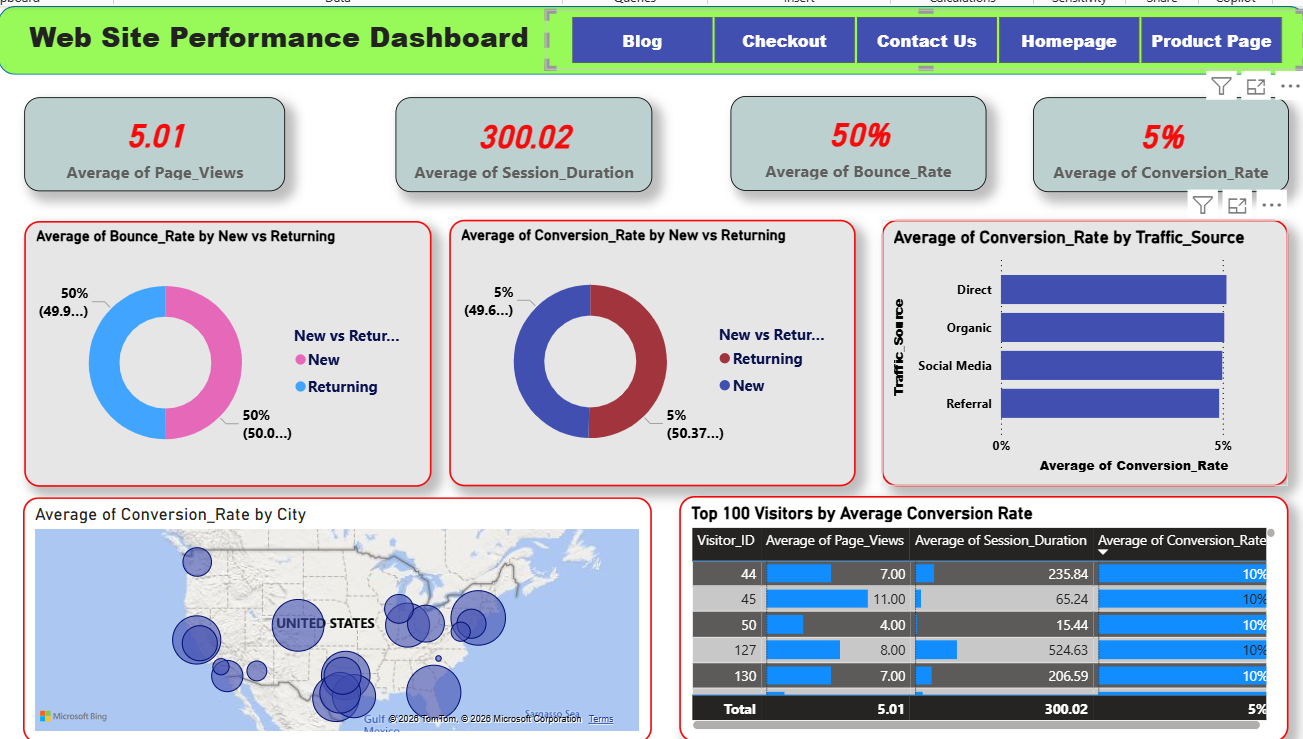

The page's visual inventory and layout, read from the dashboard file:
{"tool":"powerbi","page":{"name":"Page 1","canvas":[1280,720],"ordinal":0},"visuals":[{"type":"shape","box":[0,0,1280,67.2],"z":0},{"type":"textbox","box":[25.2,6.7,510.7,52.1],"z":1000},{"type":"card","fields":{"Values":["Avg(1 61 Assignment-website_performance_analytics.Page_Views)"]},"box":[25.2,89,255.3,92.4],"z":2000},{"type":"slicer","fields":{"Values":["1 61 Assignment-website_performance_analytics.Exit_Pages"]},"box":[535.9,3.4,744.1,58.8],"z":3000},{"type":"card","fields":{"Values":["Avg(1 61 Assignment-website_performance_analytics.Session_Duration)"]},"box":[388.8,89,251.3,92.9],"z":4000},{"type":"card","fields":{"Values":["Avg(1 61 Assignment-website_performance_analytics.Bounce_Rate)"]},"box":[716.1,87.7,250,92.9],"z":5000},{"type":"card","fields":{"Values":["Avg(1 61 Assignment-website_performance_analytics.Conversion_Rate)"]},"box":[1011.9,89,250,92.9],"z":6000},{"type":"donutChart","fields":{"Y":["Avg(1 61 Assignment-website_performance_analytics.Bounce_Rate)"],"Category":["1 61 Assignment-website_performance_analytics.Visitor_Type"]},"box":[25.2,210,398.1,260.4],"z":7000},{"type":"donutChart","fields":{"Y":["Avg(1 61 Assignment-website_performance_analytics.Conversion_Rate)"],"Category":["1 61 Assignment-website_performance_analytics.Visitor_Type"]},"box":[441.2,209.5,398,260.5],"z":8000},{"type":"clusteredBarChart","fields":{"Y":["Avg(1 61 Assignment-website_performance_analytics.Conversion_Rate)"],"Category":["1 61 Assignment-website_performance_analytics.Traffic_Source"]},"box":[864,209.5,398,260.5],"z":9000},{"type":"map","fields":{"Size":["Avg(1 61 Assignment-website_performance_analytics.Conversion_Rate)"],"Category":["1 61 Assignment-website_performance_analytics.City"]},"box":[24.9,480.4,615.3,240.9],"z":9001},{"type":"tableEx","title":"Top 100 Visitors by Average Conversion Rate","fields":{"Values":["1 61 Assignment-website_performance_analytics.Visitor_ID","Avg(1 61 Assignment-website_performance_analytics.Page_Views)","Avg(1 61 Assignment-website_performance_analytics.Session_Duration)","Avg(1 61 Assignment-website_performance_analytics.Conversion_Rate)"]},"box":[666.3,479.1,595.6,240.9],"z":9002}]}

Visuals, with their boxes in screenshot pixels (x1, y1, x2, y2):
shape: BBox(0, 0, 1302, 70)
textbox: BBox(19, 7, 551, 61)
card - Avg(1 61 Assignment-website_performance_analytics.Page_Views): BBox(19, 93, 285, 189)
slicer - 1 61 Assignment-website_performance_analytics.Exit_Pages: BBox(551, 4, 1302, 65)
card - Avg(1 61 Assignment-website_performance_analytics.Session_Duration): BBox(398, 93, 659, 189)
card - Avg(1 61 Assignment-website_performance_analytics.Bounce_Rate): BBox(739, 91, 999, 188)
card - Avg(1 61 Assignment-website_performance_analytics.Conversion_Rate): BBox(1046, 93, 1302, 189)
donutChart - Avg(1 61 Assignment-website_performance_analytics.Bounce_Rate) x 1 61 Assignment-website_performance_analytics.Visitor_Type: BBox(19, 219, 434, 490)
donutChart - Avg(1 61 Assignment-website_performance_analytics.Conversion_Rate) x 1 61 Assignment-website_performance_analytics.Visitor_Type: BBox(452, 218, 867, 489)
clusteredBarChart - Avg(1 61 Assignment-website_performance_analytics.Conversion_Rate) x 1 61 Assignment-website_performance_analytics.Traffic_Source: BBox(892, 218, 1302, 489)
map - Avg(1 61 Assignment-website_performance_analytics.Conversion_Rate) x 1 61 Assignment-website_performance_analytics.City: BBox(19, 500, 660, 738)
"Top 100 Visitors by Average Conversion Rate" tableEx: BBox(687, 499, 1302, 738)
